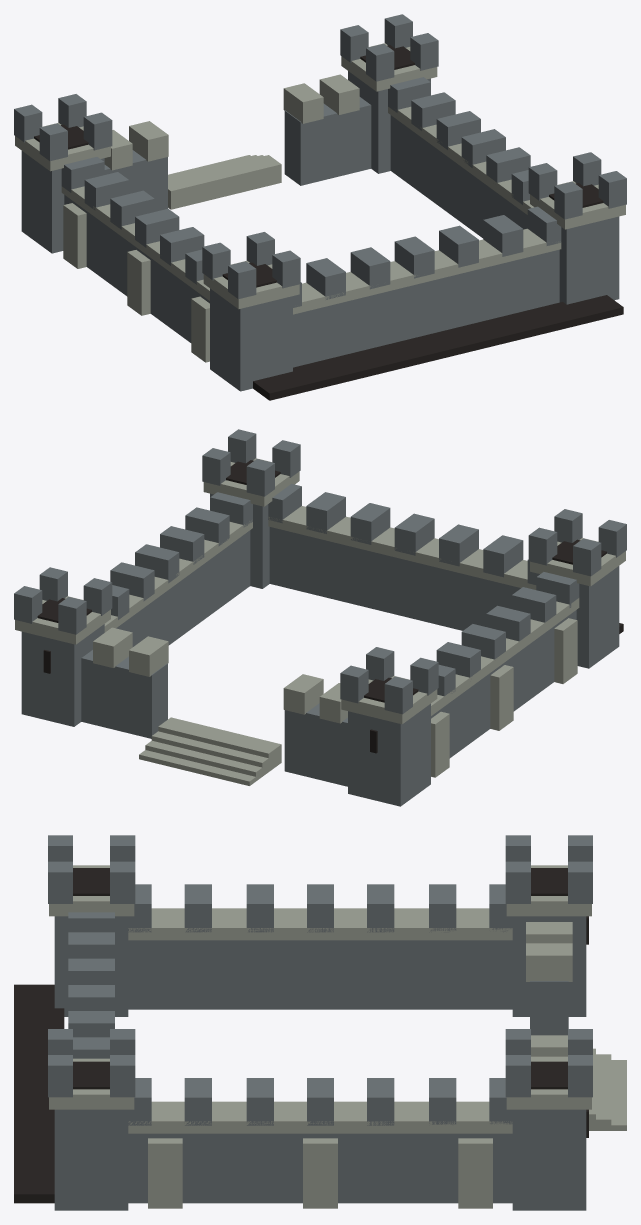
The model's file is CityWall_2.fbx.
The picture shows the model from 3 angles, top to bottom: view 1: azimuth 30°, elevation 25°; view 2: azimuth 150°, elevation 25°; view 3: azimuth 270°, elevation 25°; orthographic projection. The views are drawn at different scales.
Parts seen in each view (by area): view 1: CityWall_2; view 2: CityWall_2; view 3: CityWall_2.
Part boxes in pixels (x1=…): CityWall_2: x1=14, y1=14, x2=626, y2=400; CityWall_2: x1=14, y1=429, x2=626, y2=806; CityWall_2: x1=14, y1=835, x2=626, y2=1210.
Bounding box in the file's own units: 2.81 × 0.84 × 3.16.
1 material, 1 textured.
